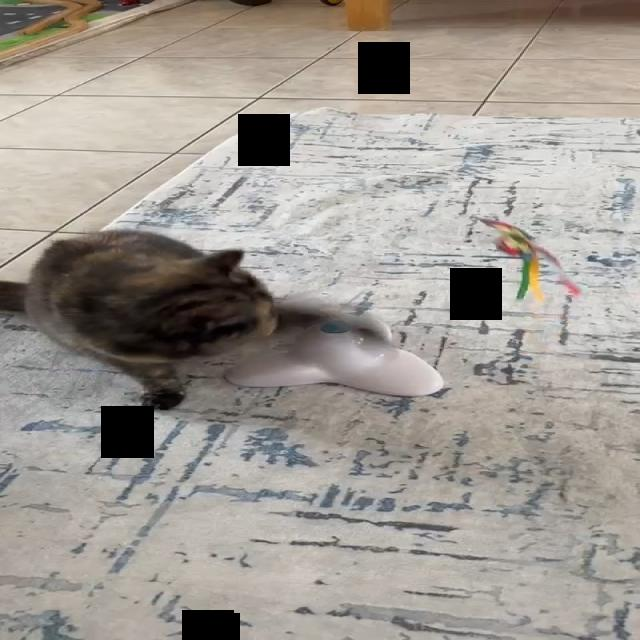authorized: (0, 227, 279, 411)
